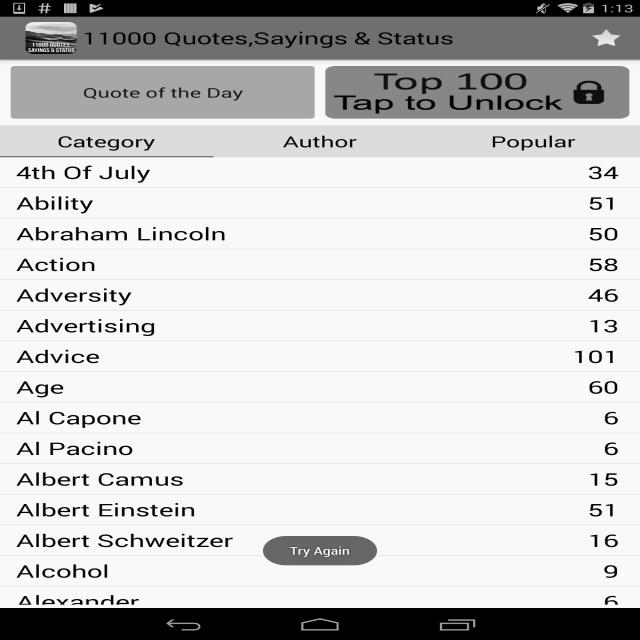Button: (326, 66, 630, 119), (11, 66, 314, 119)
ImageView: (0, 157, 640, 608), (26, 22, 76, 54)
TextView: (82, 27, 567, 49), (0, 526, 282, 556), (0, 218, 274, 248), (0, 494, 244, 524), (0, 464, 232, 494), (0, 310, 204, 340), (0, 157, 198, 187), (0, 402, 189, 432), (0, 586, 187, 616), (0, 433, 181, 463), (0, 280, 180, 310), (0, 556, 157, 586), (0, 342, 148, 372), (0, 250, 144, 280), (0, 188, 141, 218), (0, 372, 112, 402), (57, 131, 156, 152), (572, 342, 640, 372), (490, 131, 576, 152), (580, 22, 632, 54), (587, 157, 640, 187), (587, 188, 640, 218), (587, 218, 640, 248), (587, 249, 640, 279), (587, 280, 640, 310), (587, 310, 640, 340), (587, 372, 640, 402), (587, 464, 640, 494), (587, 494, 640, 524), (587, 525, 640, 555), (282, 131, 356, 152), (603, 402, 640, 432), (603, 434, 640, 464), (603, 556, 640, 586), (603, 586, 640, 616)
